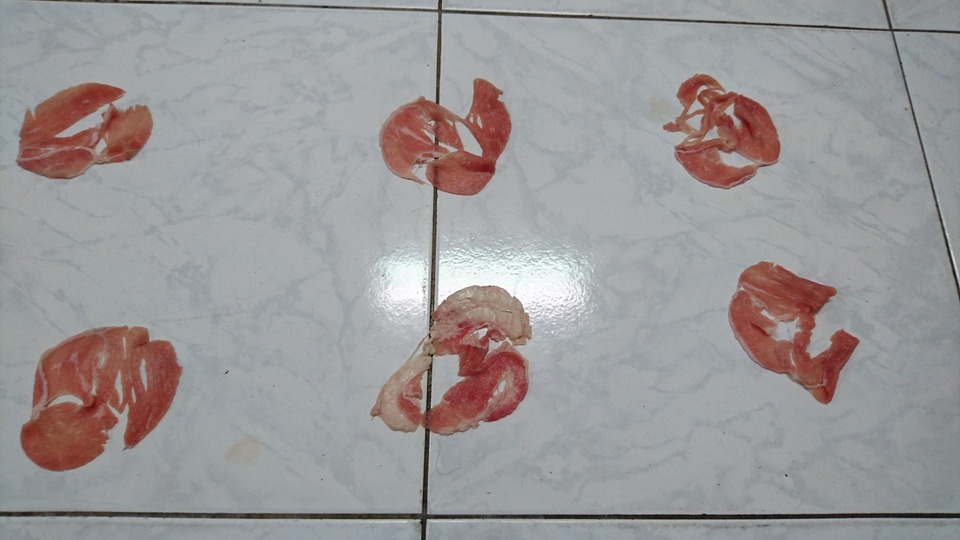restructured meat: (368, 280, 533, 433), (22, 321, 187, 474), (727, 257, 863, 407), (374, 74, 509, 200), (660, 66, 795, 192), (18, 80, 156, 182)
